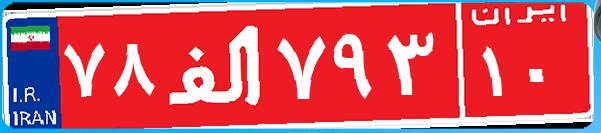0: (525, 38, 570, 115)
1: (475, 38, 525, 113)
3: (385, 28, 445, 110)
7: (273, 28, 330, 110), (57, 26, 110, 107)
8: (110, 28, 158, 105)
9: (330, 28, 385, 110)
الف: (158, 15, 273, 115)
